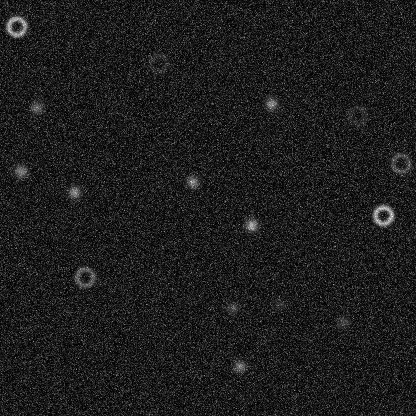Ring: (72, 265, 96, 289), (388, 151, 412, 175), (371, 203, 395, 227), (345, 103, 369, 127), (4, 14, 28, 38), (146, 51, 170, 75)
Spot: (28, 99, 44, 115), (271, 296, 287, 312), (224, 299, 240, 315), (231, 358, 247, 374), (184, 173, 200, 189), (335, 314, 351, 330), (243, 217, 259, 233), (12, 162, 28, 178), (263, 95, 279, 111), (66, 184, 82, 200)
